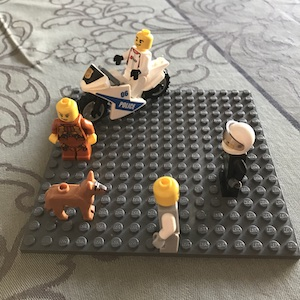Lego: (213, 120, 257, 196), (47, 98, 97, 161), (148, 175, 183, 261), (113, 29, 155, 96)
